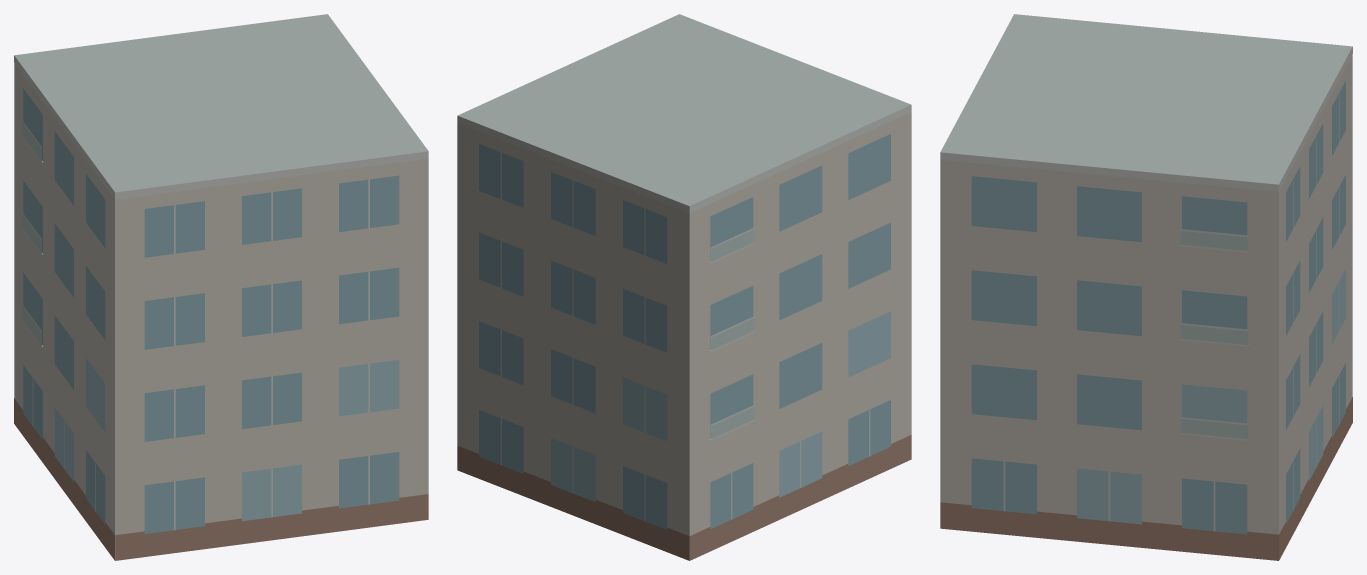
The model's file is residential-5514e088-d020-4e93-b13d-2ae21652fcbf.glb.
3 views of the same model, side by side, from view 1: azimuth 30°, elevation 25°; view 2: azimuth 150°, elevation 25°; view 3: azimuth 270°, elevation 25° (orthographic). The views are drawn at different scales.
Visible parts, largest first — view 1: residential-5514e088-d020-4e93-b13d-2ae21652fcbf.tmp; view 2: residential-5514e088-d020-4e93-b13d-2ae21652fcbf.tmp; view 3: residential-5514e088-d020-4e93-b13d-2ae21652fcbf.tmp.
Part boxes in pixels (x1,y1,x2,y2): residential-5514e088-d020-4e93-b13d-2ae21652fcbf.tmp: [14, 14, 428, 560]; residential-5514e088-d020-4e93-b13d-2ae21652fcbf.tmp: [457, 14, 911, 560]; residential-5514e088-d020-4e93-b13d-2ae21652fcbf.tmp: [940, 14, 1352, 560].
Size of the model in its own units: 11.87 by 12.2 by 12.13.
